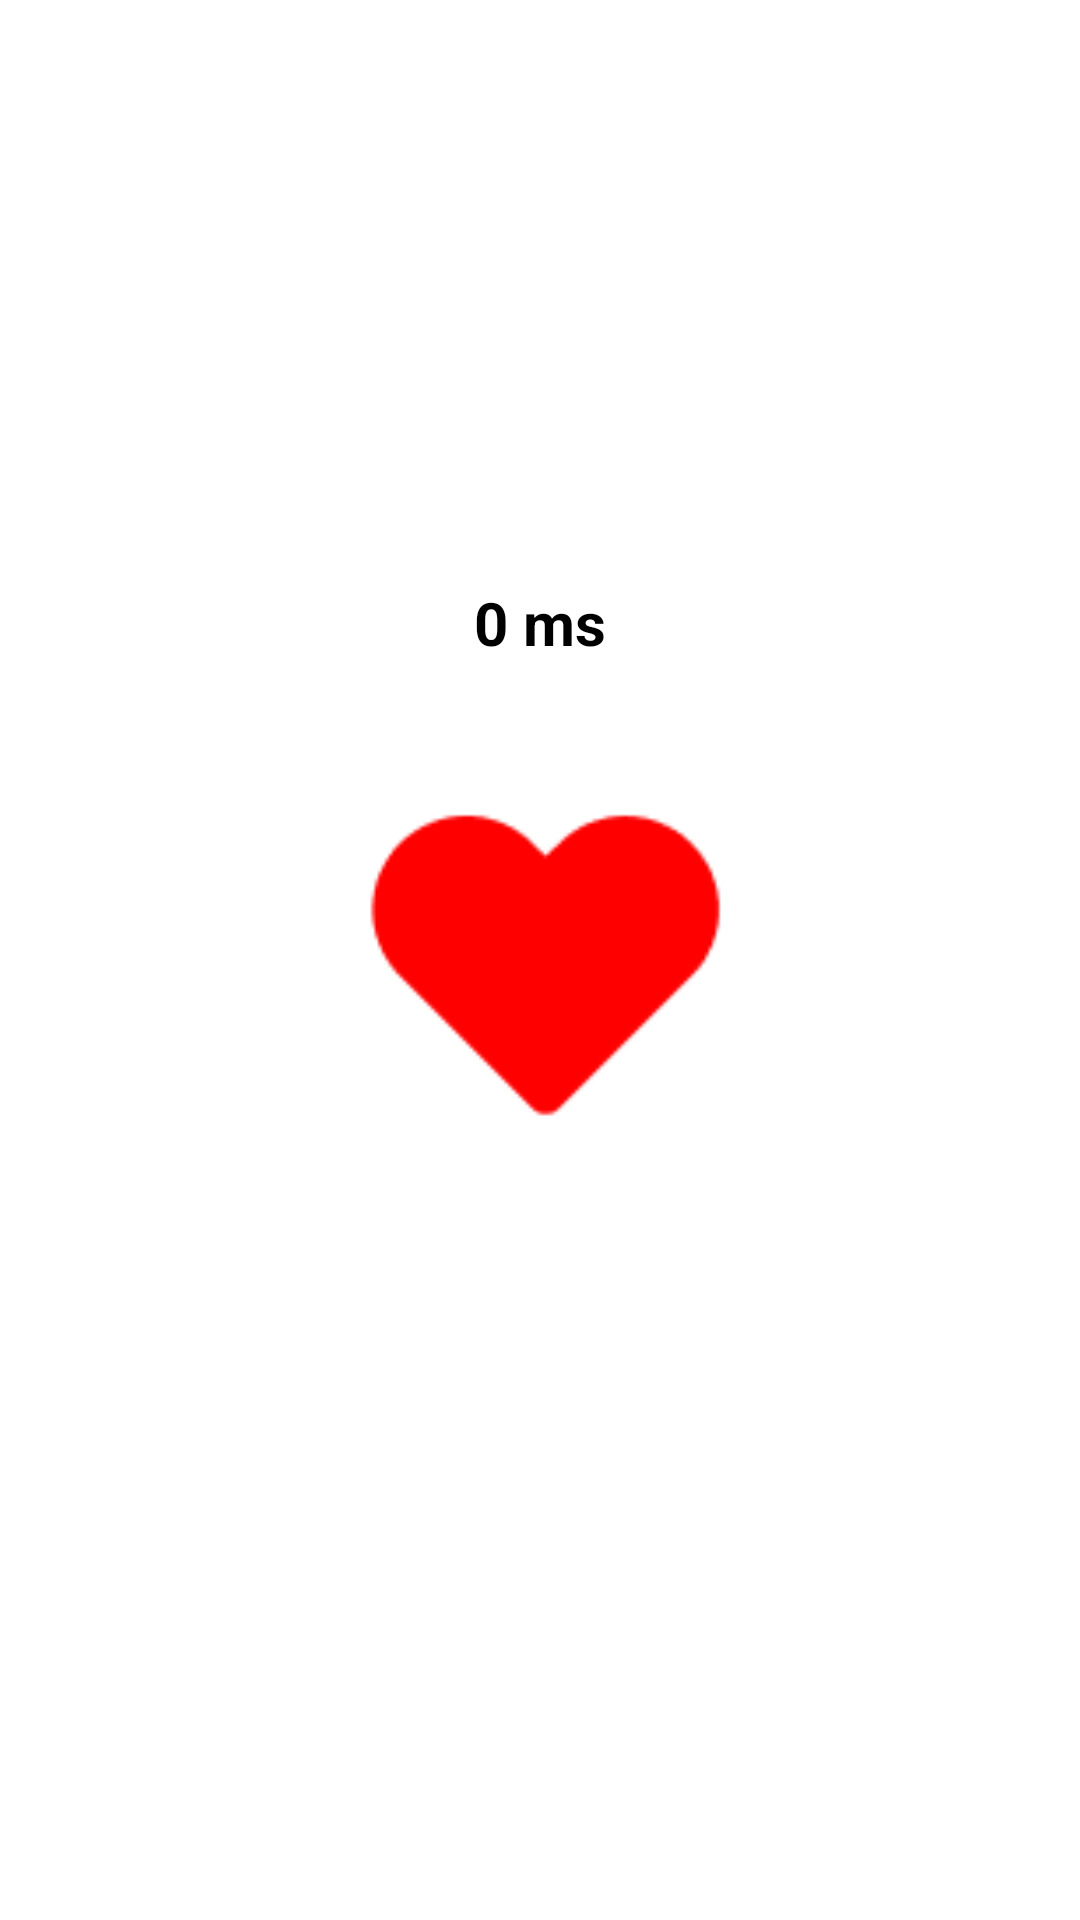

Icon bounding boxes for this 1080×1920 phone screenshot, format box=[x1, y1, x2, y2]:
heart: box=[370, 814, 721, 1116]
